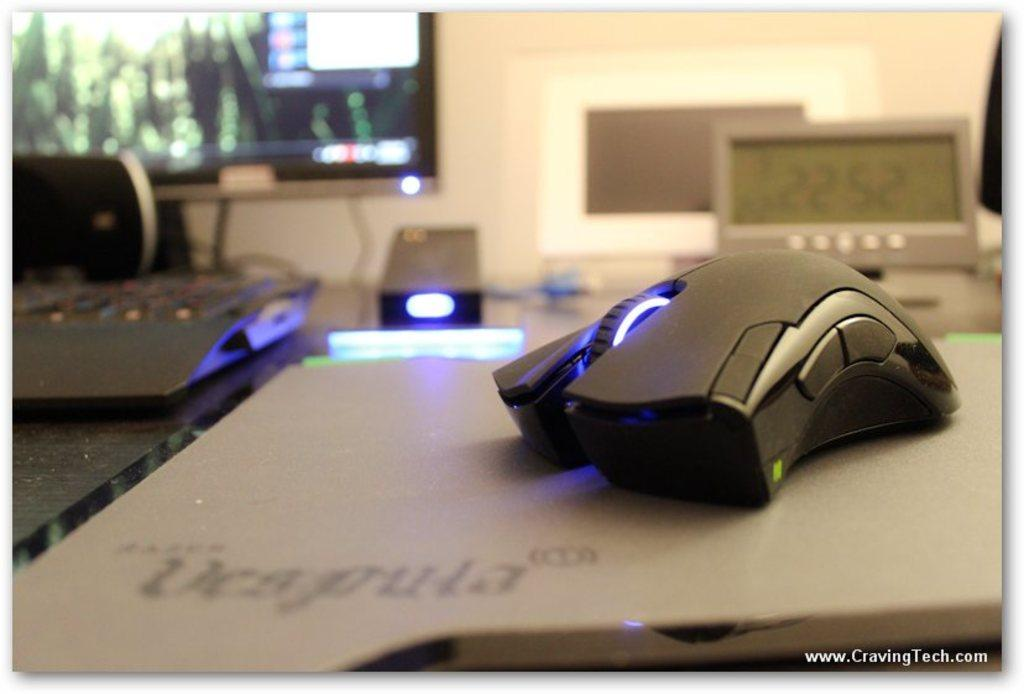Computer-mouse: (487, 241, 954, 513)
